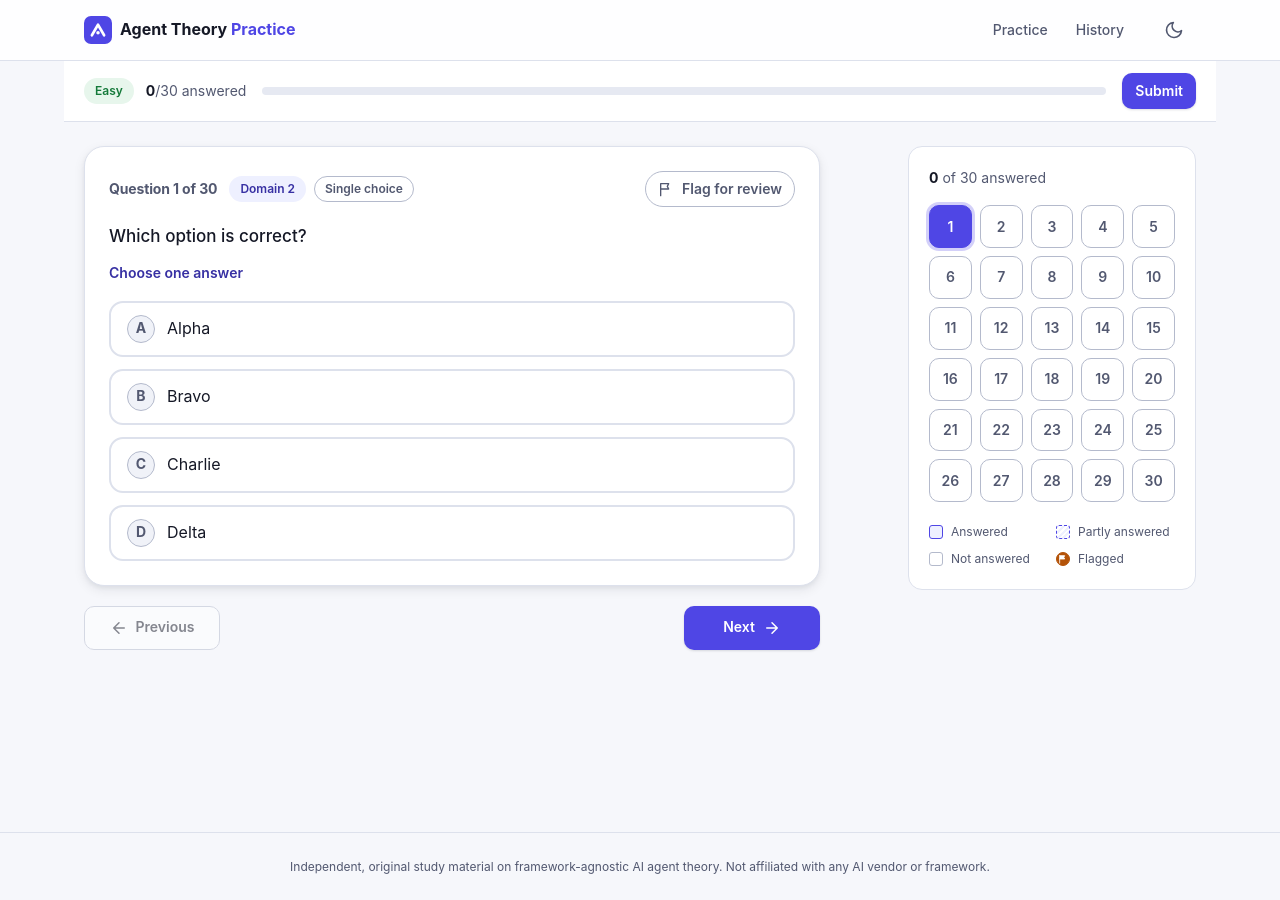
it: ExamPage › does not hijack arrow keys while a radio option has focus
Click the radio button labelled "A Alpha": (189, 328) [109,301,795,357]
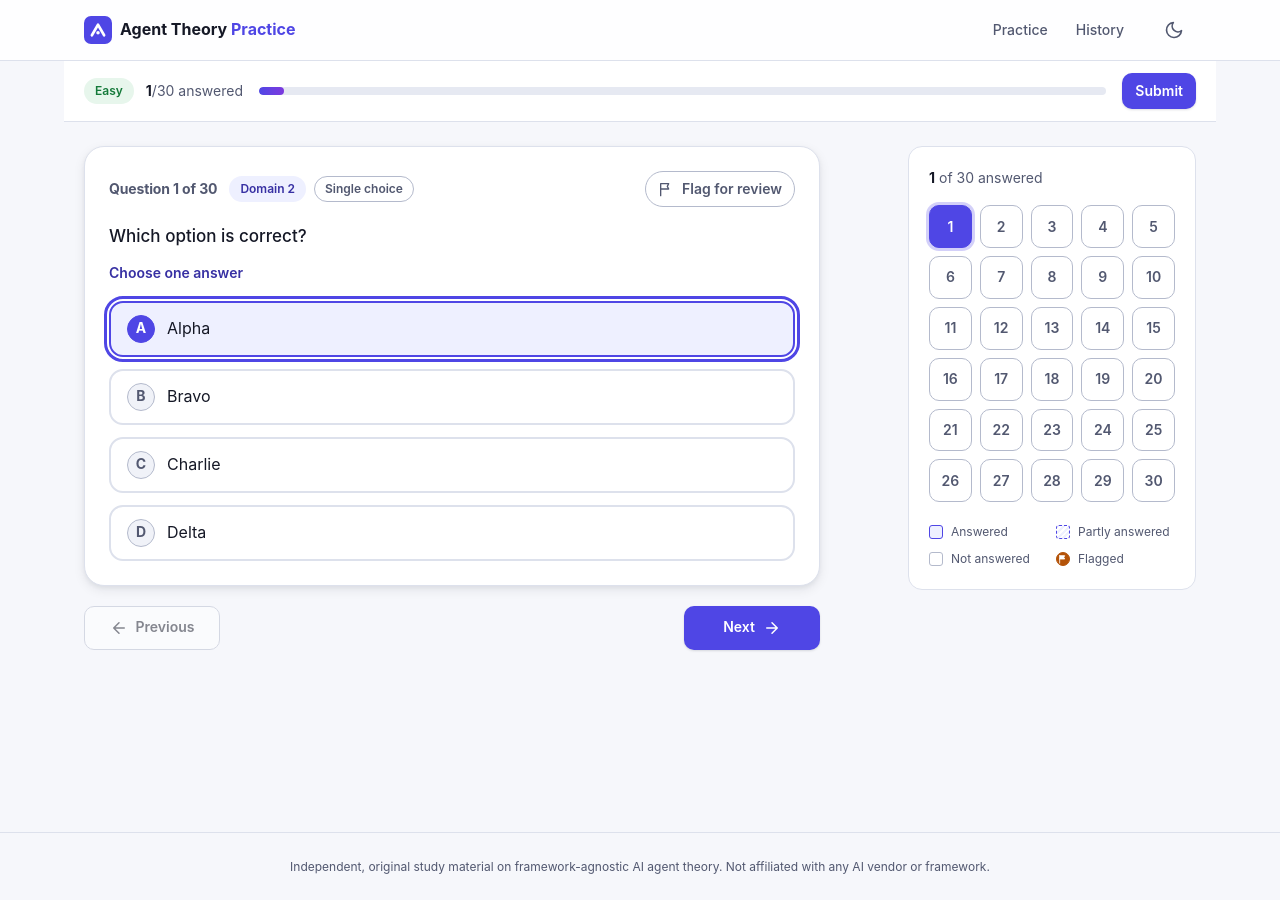
Press Arrowright
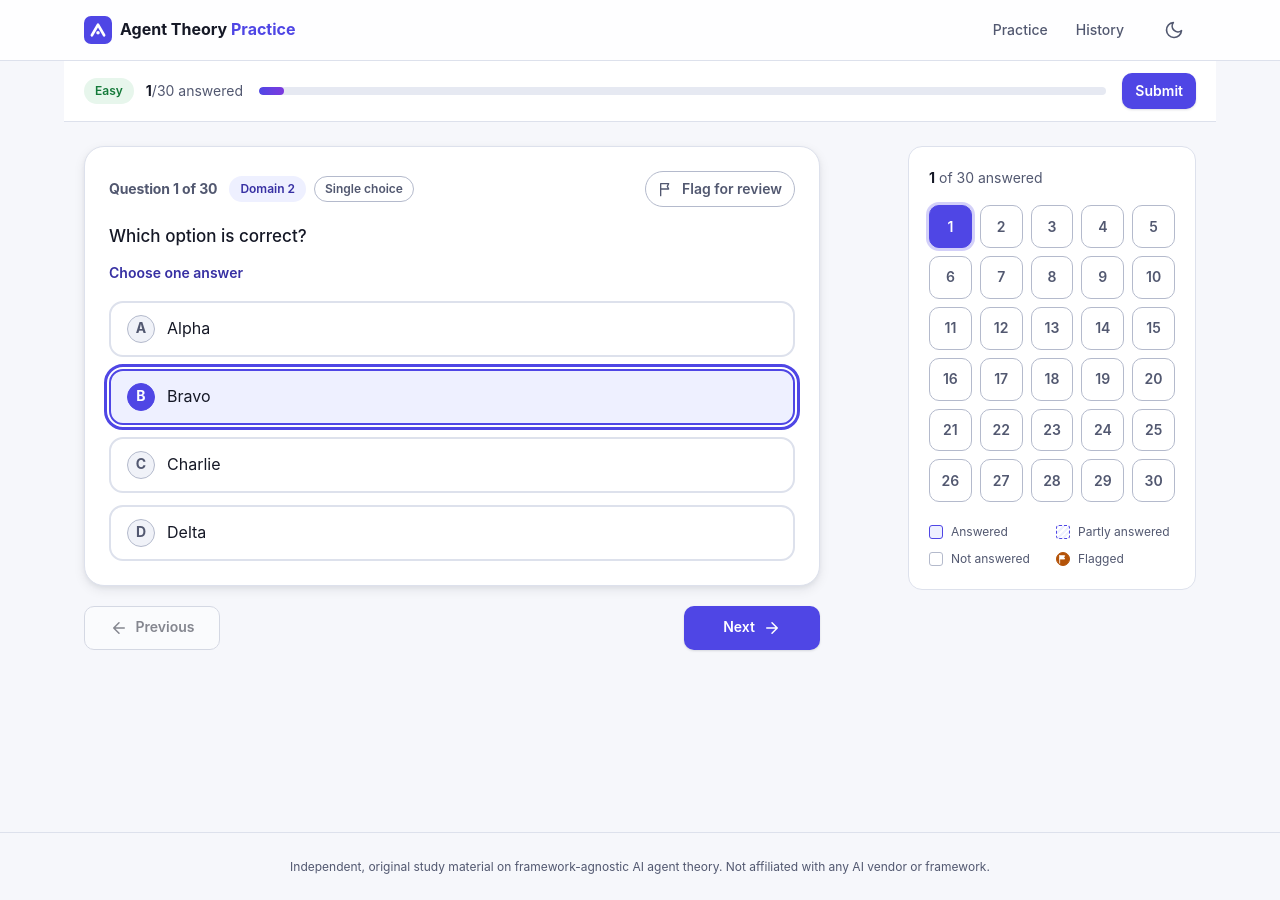
Expected: the heading "Question 1 of 30" is shown, [109,180,217,198]
Expected: the radio button labelled "B Bravo" is checked, [109,369,795,425]
